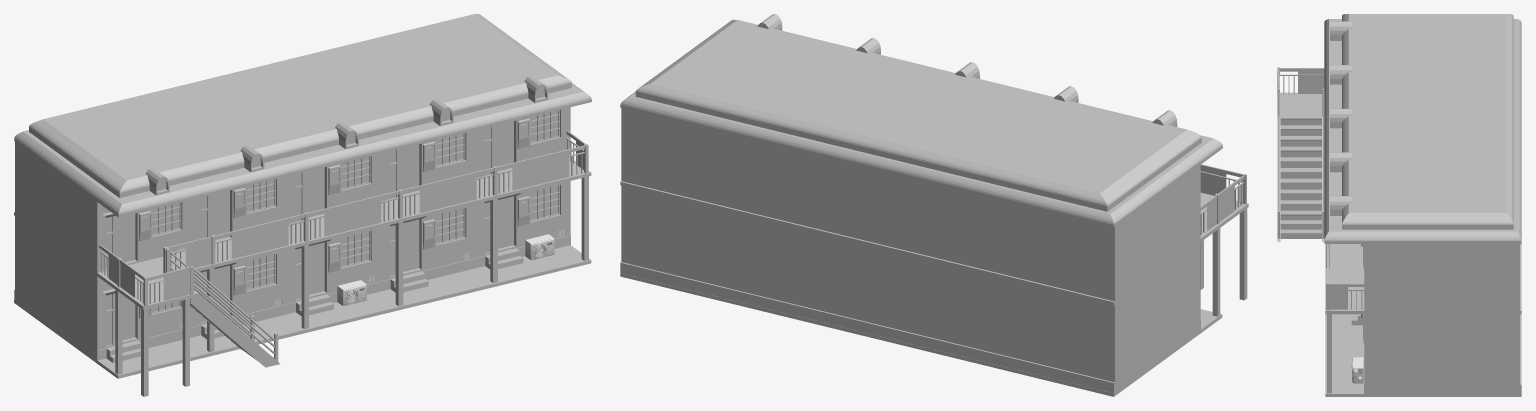
Rendered from Apartment3.fbx.
3 renders of one model, left to right at view 1: azimuth 30°, elevation 25°; view 2: azimuth 150°, elevation 25°; view 3: azimuth 270°, elevation 25°, orthographic. The views are drawn at different scales.
Visible parts, largest first — view 1: Apartment3, AirC3; view 2: Apartment3; view 3: Apartment3, AirC3.
Boxes of the visible parts, x1,y1,x2,y2 form: Apartment3: (14, 14, 591, 396); AirC3: (337, 234, 554, 305); Apartment3: (620, 14, 1248, 396); Apartment3: (1277, 14, 1521, 396); AirC3: (1352, 357, 1363, 383).
Size of the model in its own units: 3000 by 1145 by 1420.
